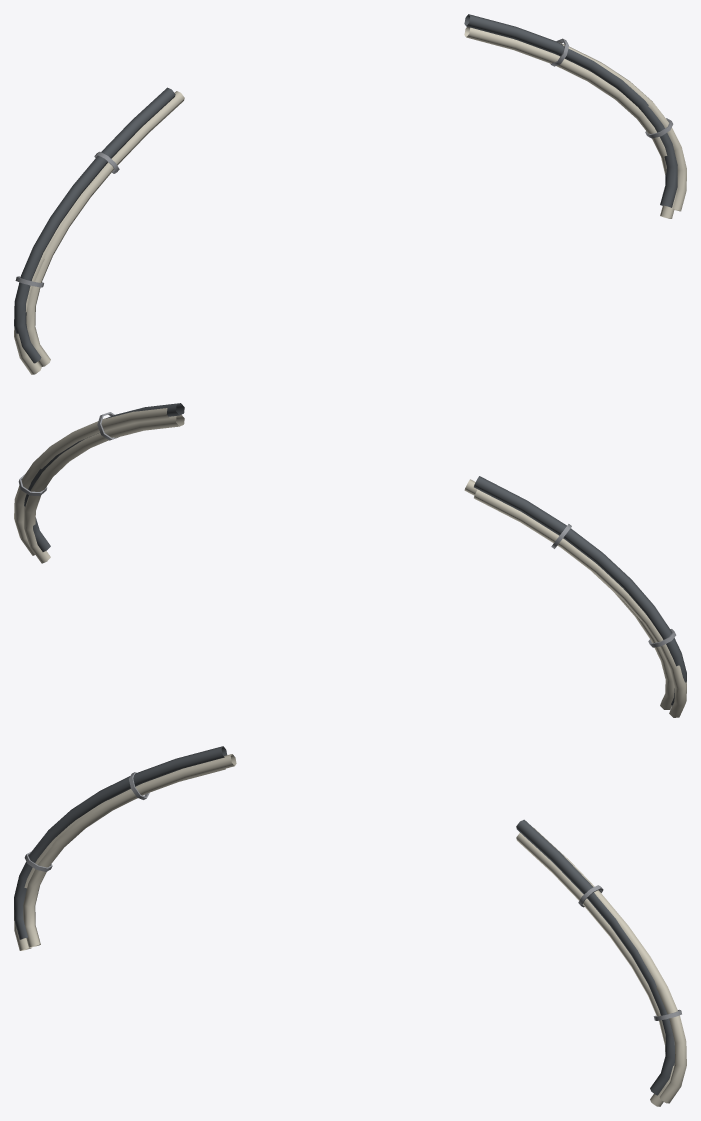
Rendered from ec2_harness.obj.
The picture shows the model from 3 angles, top to bottom: view 1: azimuth 30°, elevation 25°; view 2: azimuth 150°, elevation 25°; view 3: azimuth 330°, elevation 25°; orthographic projection.
Parts seen in each view (by area): view 1: ec2_harness; view 2: ec2_harness; view 3: ec2_harness.
Boxes of the visible parts, bbox=[...] form: ec2_harness: bbox=[14, 14, 686, 374]; ec2_harness: bbox=[14, 403, 686, 717]; ec2_harness: bbox=[14, 746, 686, 1106].
Size of the model in its own units: 3.63 by 1.15 by 0.356.
